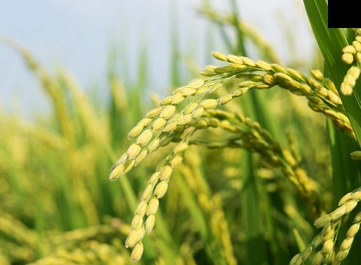rice: (104, 38, 351, 260)
